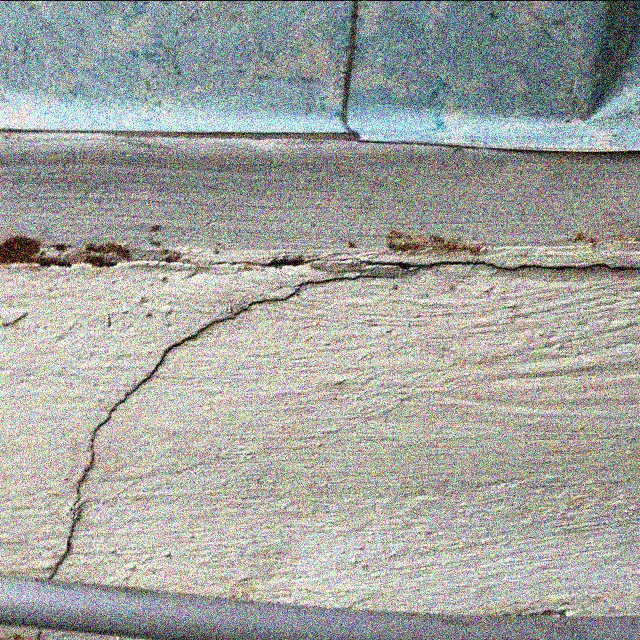SurfaceCrack: (5, 184, 638, 600)
